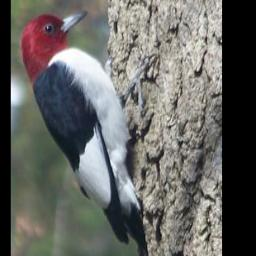Woodpecker: (19, 7, 162, 251)
